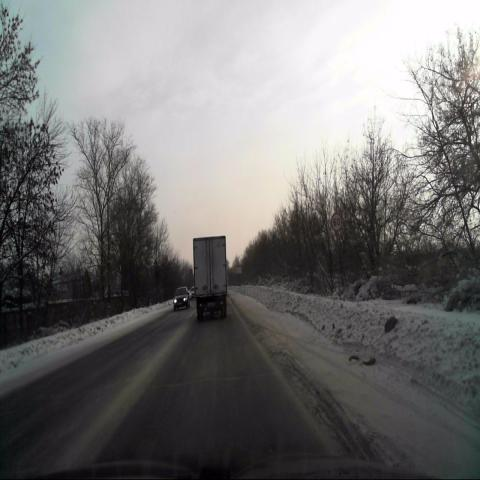3_24: (331, 213, 341, 230)
